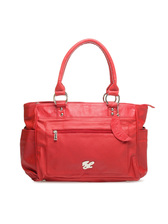bag: (17, 38, 154, 182)
